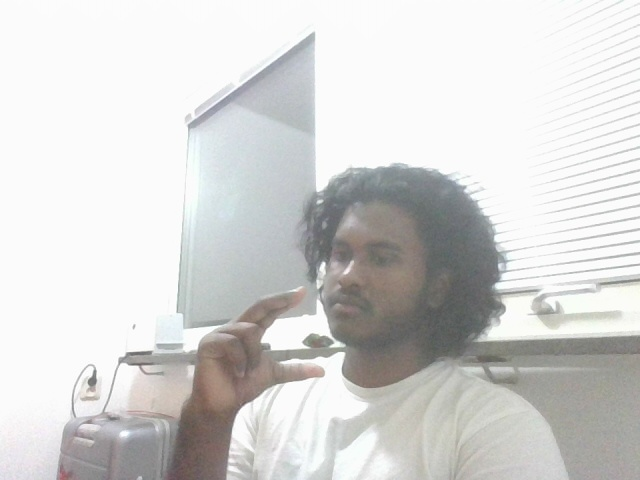no: (174, 279, 337, 403)
